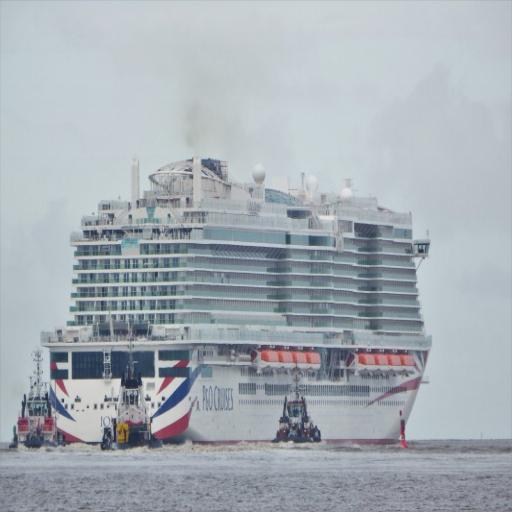cruises: (40, 147, 437, 454)
